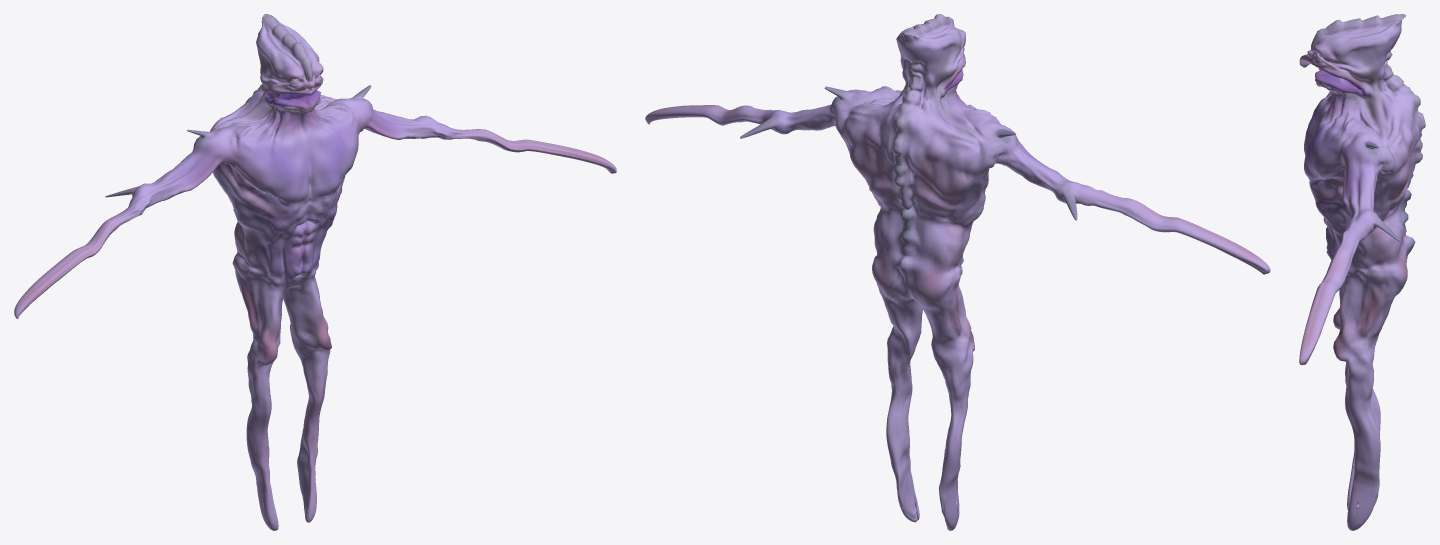
File: MonsterVRClubUnrigged.fbx
3 views of the same model, side by side, from view 1: azimuth 30°, elevation 25°; view 2: azimuth 150°, elevation 25°; view 3: azimuth 270°, elevation 25° (orthographic). The views are drawn at different scales.
Parts seen in each view (by area): view 1: monster.001; view 2: monster.001; view 3: monster.001.
Boxes of the visible parts, left/top/right/bottom form: monster.001: left=14, top=14, right=616, bottom=530; monster.001: left=645, top=14, right=1270, bottom=530; monster.001: left=1299, top=14, right=1425, bottom=530.
Bounding box in the file's own units: 2234 × 1754 × 396.
